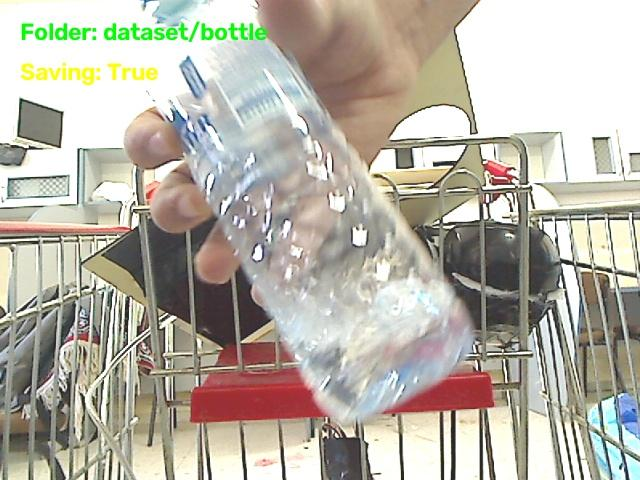Bottle: (158, 33, 472, 421)
